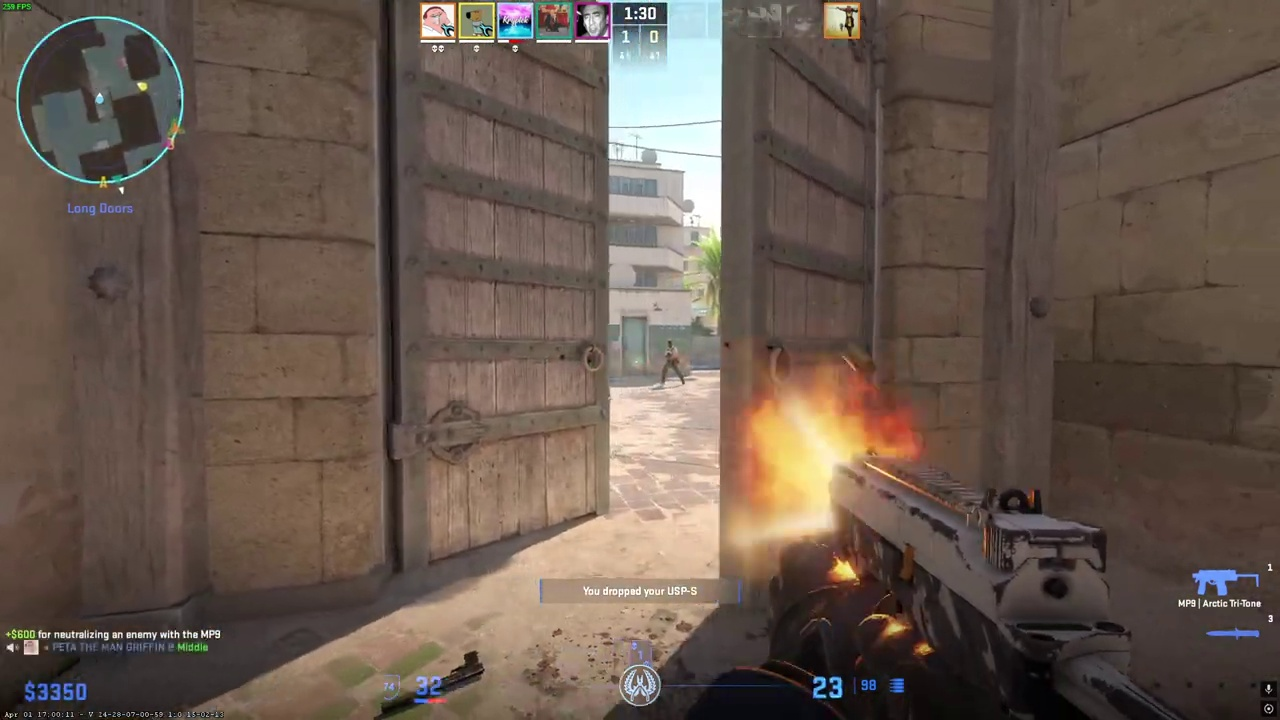Terrorist: (660, 340, 685, 385)
